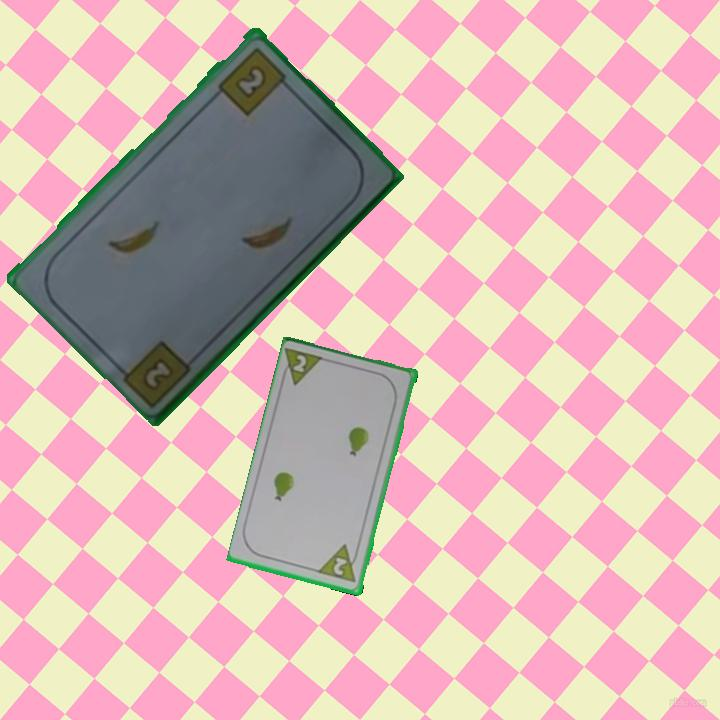2b: (214, 42, 293, 118), (142, 353, 177, 390)
2p: (277, 345, 328, 389), (316, 541, 363, 586)
